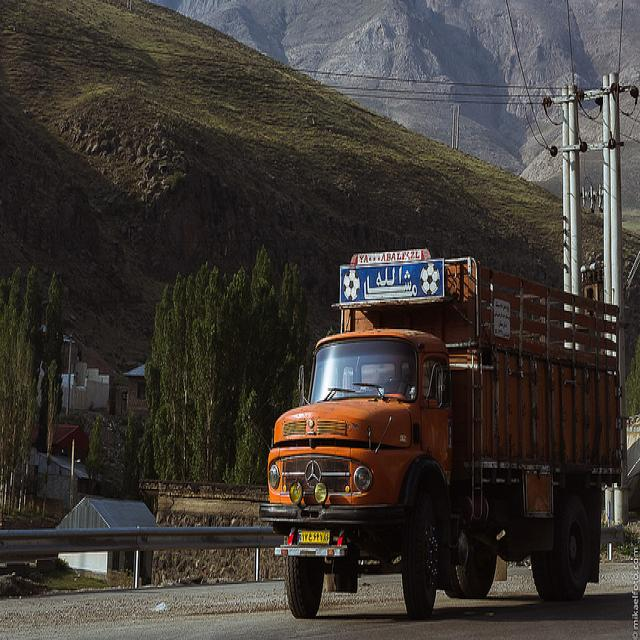Vehicle: (262, 254, 622, 614)
